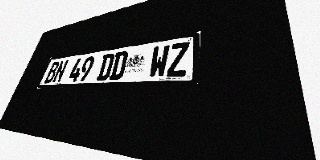4: (67, 57, 85, 82)
9: (77, 56, 96, 82)
B: (44, 61, 60, 83)
D: (108, 51, 129, 80), (96, 53, 115, 81)
N: (52, 60, 69, 83)
W: (148, 44, 170, 78)
Z: (166, 41, 190, 77)
